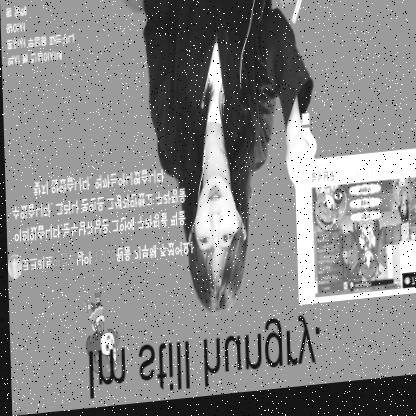donation: (4, 166, 195, 390)
streamer: (138, 0, 318, 325)
